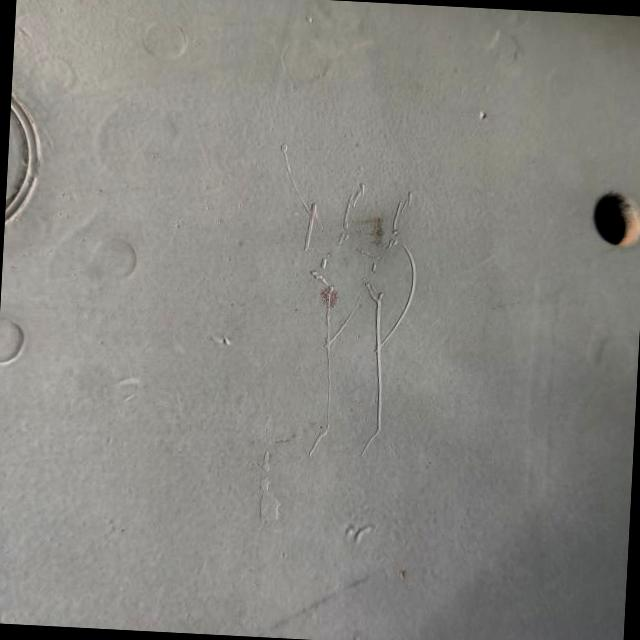Missing Fastener: (571, 185, 640, 259)
